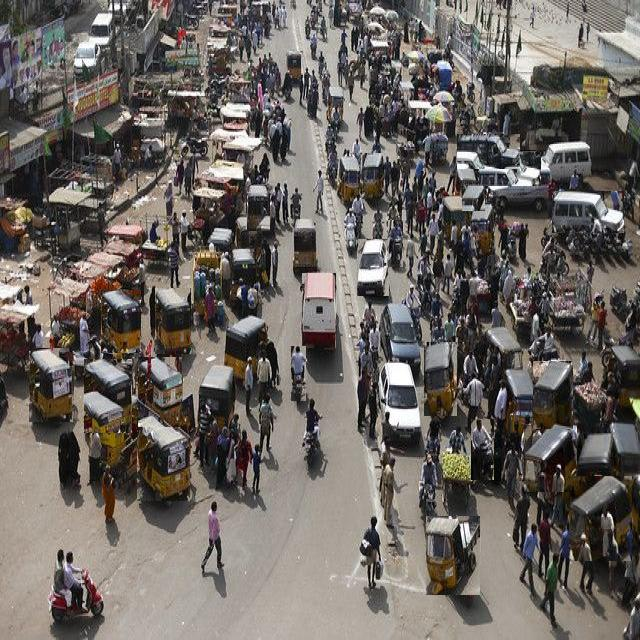autorickshaw: (569, 476, 632, 561), (138, 416, 190, 501), (426, 517, 480, 595), (92, 392, 141, 465), (84, 359, 132, 433), (525, 425, 577, 492), (30, 349, 73, 422), (138, 358, 182, 427), (225, 315, 268, 379), (534, 361, 573, 429), (101, 291, 141, 353), (155, 288, 191, 354), (608, 422, 640, 496), (425, 343, 457, 416), (505, 369, 536, 441), (199, 365, 235, 426), (578, 433, 613, 482), (611, 345, 640, 404), (488, 326, 522, 370), (292, 219, 318, 273), (471, 204, 494, 256), (338, 156, 361, 205), (362, 153, 384, 199), (442, 197, 466, 239), (248, 186, 270, 231), (232, 249, 256, 284), (238, 215, 262, 248), (462, 186, 485, 211), (208, 229, 232, 252), (456, 168, 476, 192)
car: (379, 362, 421, 443), (379, 304, 421, 379), (488, 163, 551, 212), (552, 191, 624, 233), (479, 152, 541, 186), (458, 135, 520, 169), (544, 142, 591, 182), (358, 240, 389, 296)
motorcycle: (49, 549, 104, 621), (74, 313, 104, 378), (471, 419, 494, 480), (419, 453, 438, 526), (302, 399, 321, 464), (291, 346, 306, 401), (389, 221, 403, 267), (345, 210, 356, 252)
truck: (302, 274, 336, 348)
